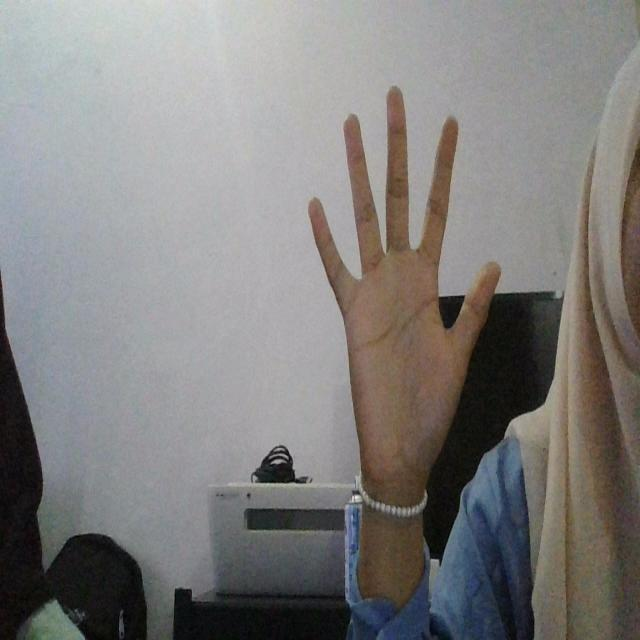hand: (306, 84, 507, 506)
